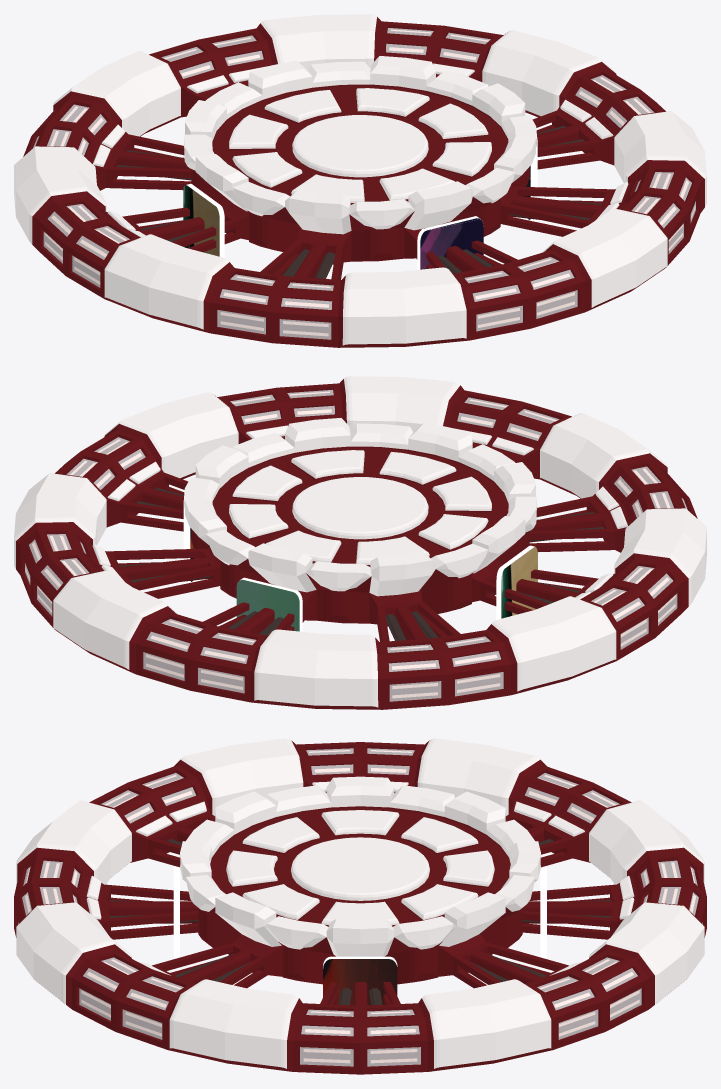
The model's file is Game6.glb.
3 views of the same model, one above another, from view 1: azimuth 30°, elevation 25°; view 2: azimuth 150°, elevation 25°; view 3: azimuth 270°, elevation 25° (orthographic).
Parts seen in each view (by area): view 1: SmallShowRoom_Placeable_0, Cube.001, Cube.003; view 2: SmallShowRoom_Placeable_0, Cube.001, Cube.004; view 3: SmallShowRoom_Placeable_0, Cube.002, Cube.001.
Boxes of the visible parts, x1=… form: SmallShowRoom_Placeable_0: x1=14, y1=14, x2=706, y2=347; Cube.001: x1=183, y1=137, x2=537, y2=269; Cube.003: x1=420, y1=218, x2=483, y2=269; SmallShowRoom_Placeable_0: x1=14, y1=376, x2=706, y2=709; Cube.001: x1=183, y1=500, x2=537, y2=631; Cube.004: x1=236, y1=579, x2=299, y2=631; SmallShowRoom_Placeable_0: x1=14, y1=738, x2=706, y2=1074; Cube.002: x1=323, y1=959, x2=397, y2=1005; Cube.001: x1=173, y1=867, x2=546, y2=971.
Size of the model in its own units: 192 by 37.64 by 192.
6 materials, 5 textured.
